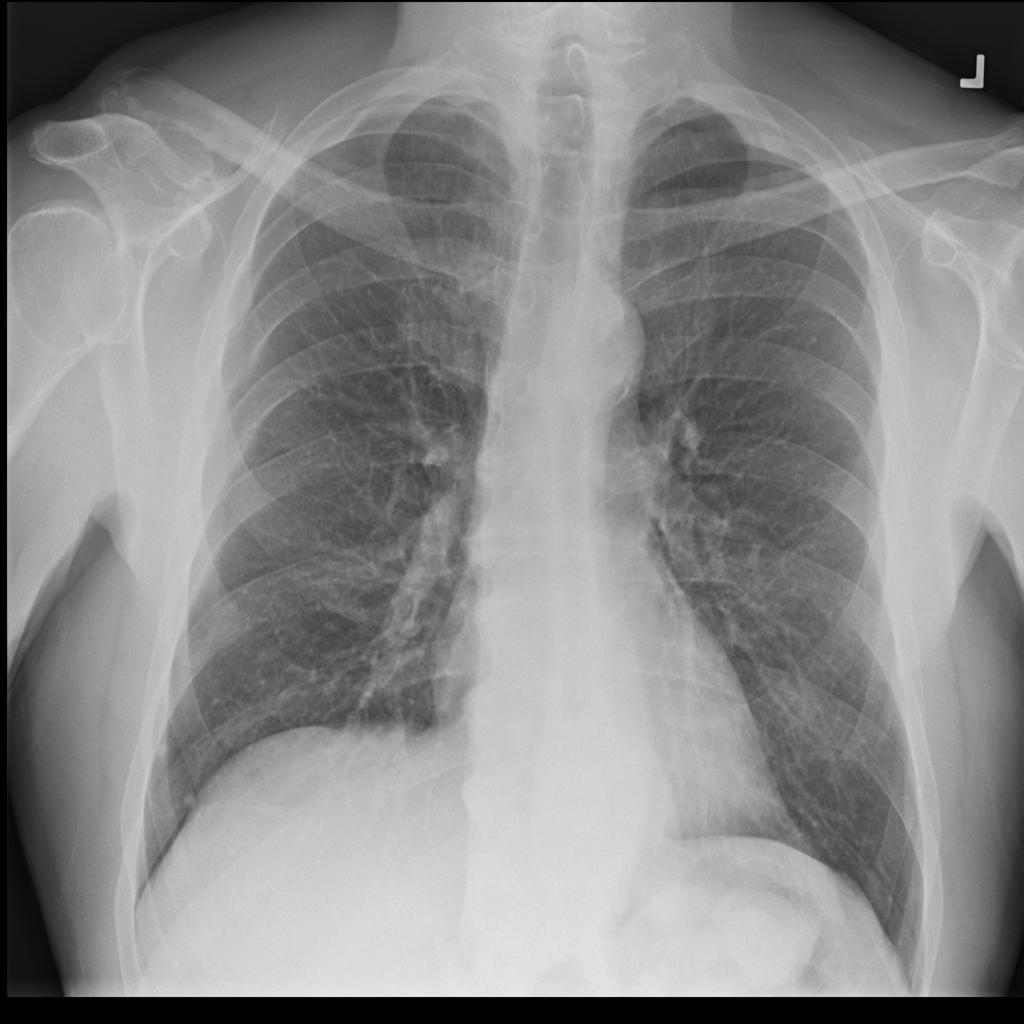nodule: (175, 778, 207, 821)
